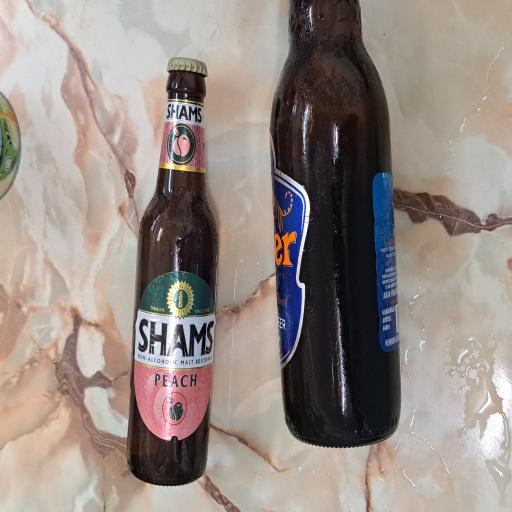glass bottle: (47, 359, 384, 512), (19, 168, 343, 296)
